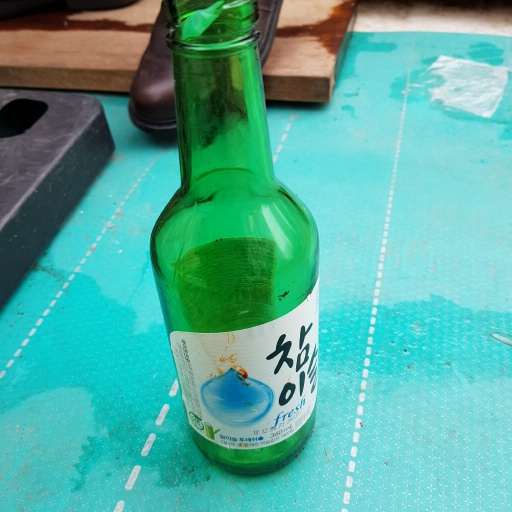Glass_0: (145, 1, 323, 479)
